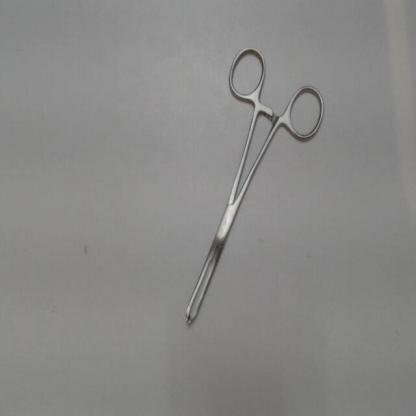Allis Tissue Forceps: (179, 38, 329, 336)
